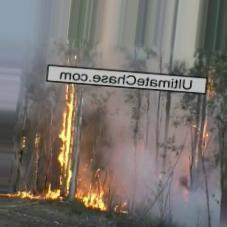fire: (58, 81, 78, 202), (79, 176, 113, 215), (0, 184, 66, 202)
